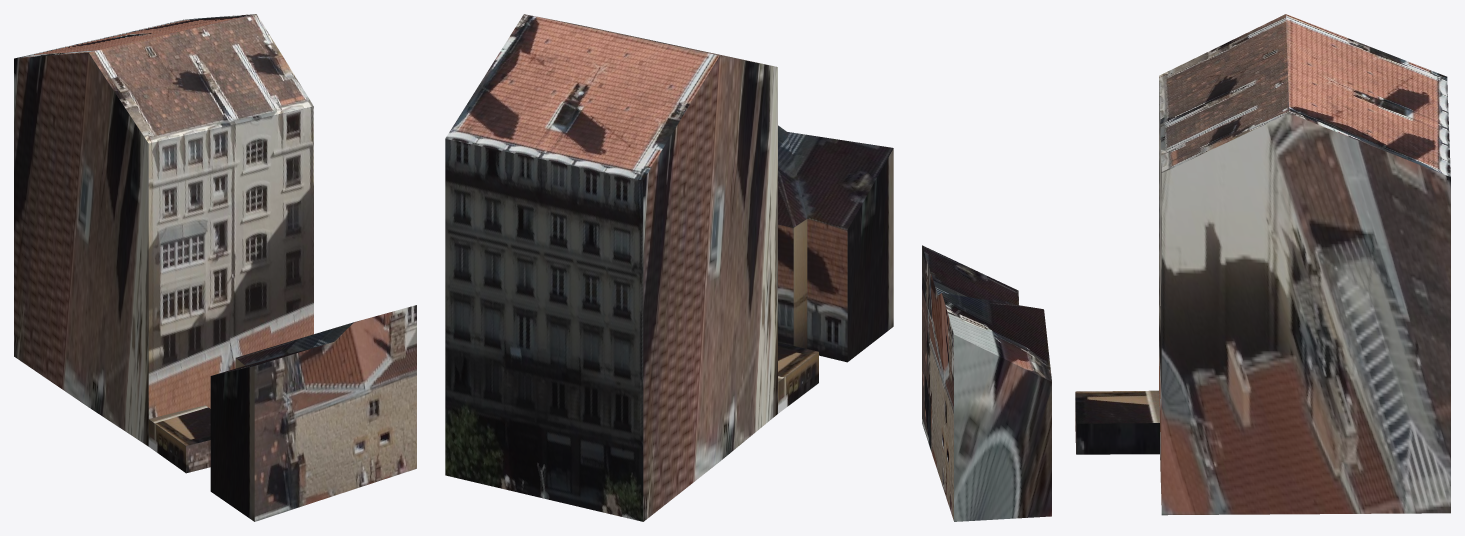
The picture shows the model from 3 angles, left to right: view 1: azimuth 30°, elevation 25°; view 2: azimuth 150°, elevation 25°; view 3: azimuth 270°, elevation 25°; orthographic projection. The views are drawn at different scales.
Visible parts, largest first — view 1: Z_UP; view 2: Z_UP; view 3: Z_UP.
Part boxes in pixels (x1,y1,x2,y2): Z_UP: [14, 14, 416, 521]; Z_UP: [445, 14, 893, 521]; Z_UP: [922, 14, 1450, 521].
Bounding box in the file's own units: 15.3 × 27.71 × 32.73.
2 materials, 1 textured.
